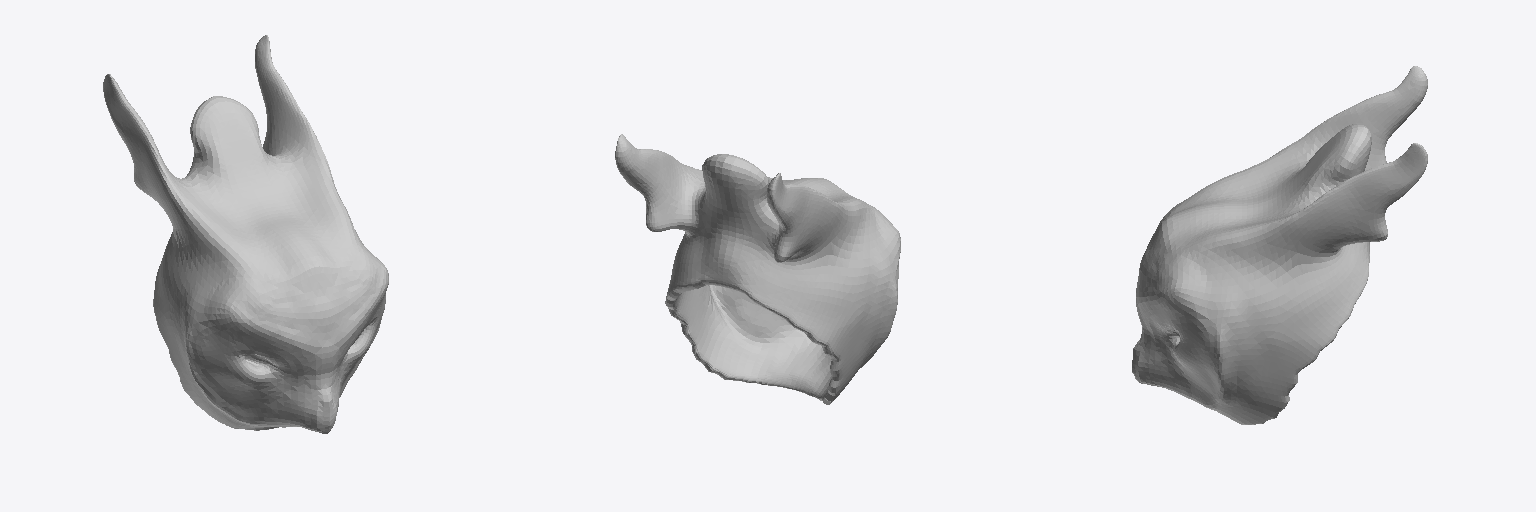
Rendered from hiboux head.obj.
3 views of the same model, side by side, from view 1: azimuth 30°, elevation 25°; view 2: azimuth 150°, elevation 25°; view 3: azimuth 270°, elevation 25° (orthographic).
Parts seen in each view (by area): view 1: Group1800; view 2: Group1800; view 3: Group1800.
Part boxes in pixels (bbox=[...]): Group1800: bbox=[103, 35, 388, 433]; Group1800: bbox=[615, 134, 900, 404]; Group1800: bbox=[1132, 66, 1427, 424].
Size of the model in its own units: 2.41 by 3.51 by 3.11.